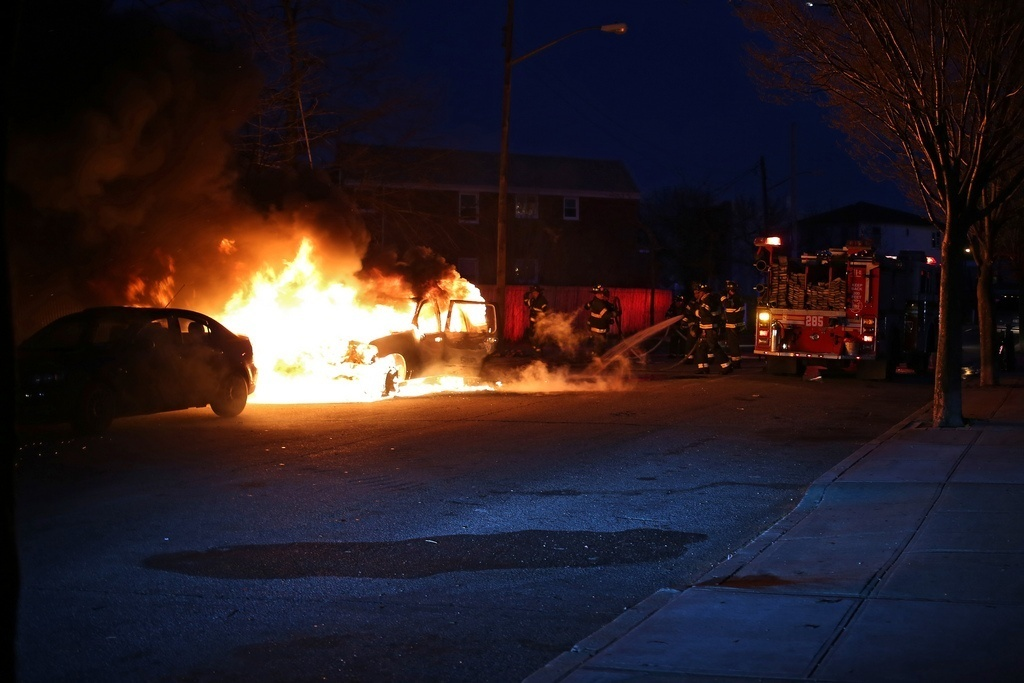fire: (214, 230, 493, 403)
